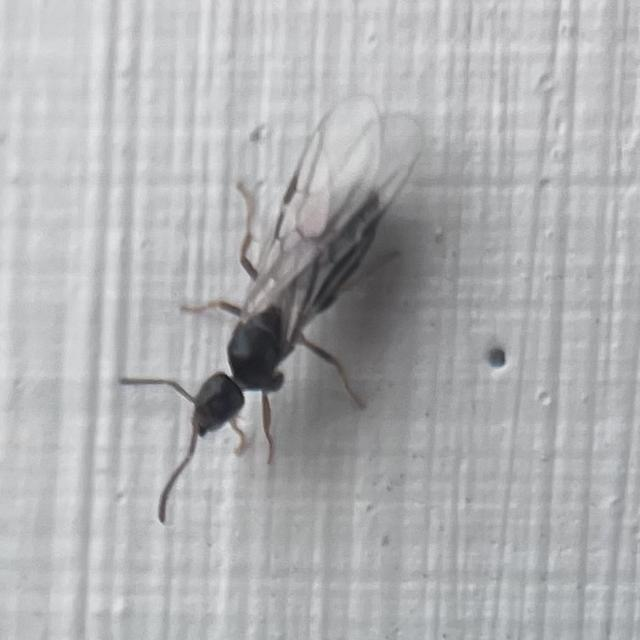Tapinoma: (123, 80, 439, 504)
